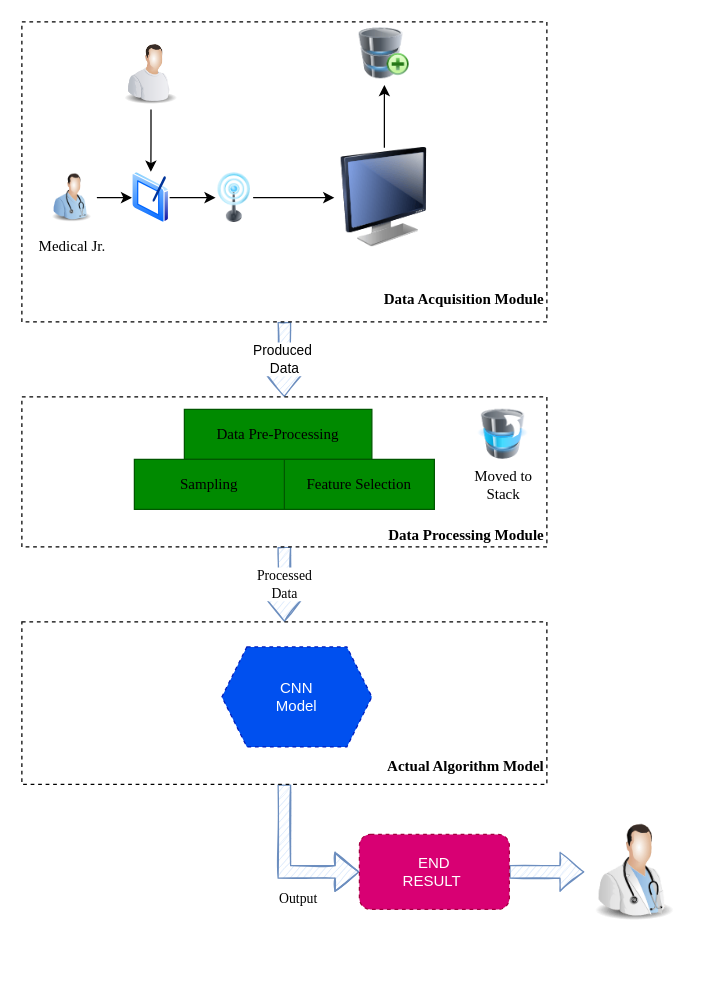
Image size: 706x989. Some labels were removed from this diagram. Here are the shapes that lost their labels. From the top down, the centre of each, then its label:
At [150,71]: "Patient".
At [384,52]: "Created Data Base".
At [233,197]: "IOT Equipment".
At [634,871]: "Medical Professional".
